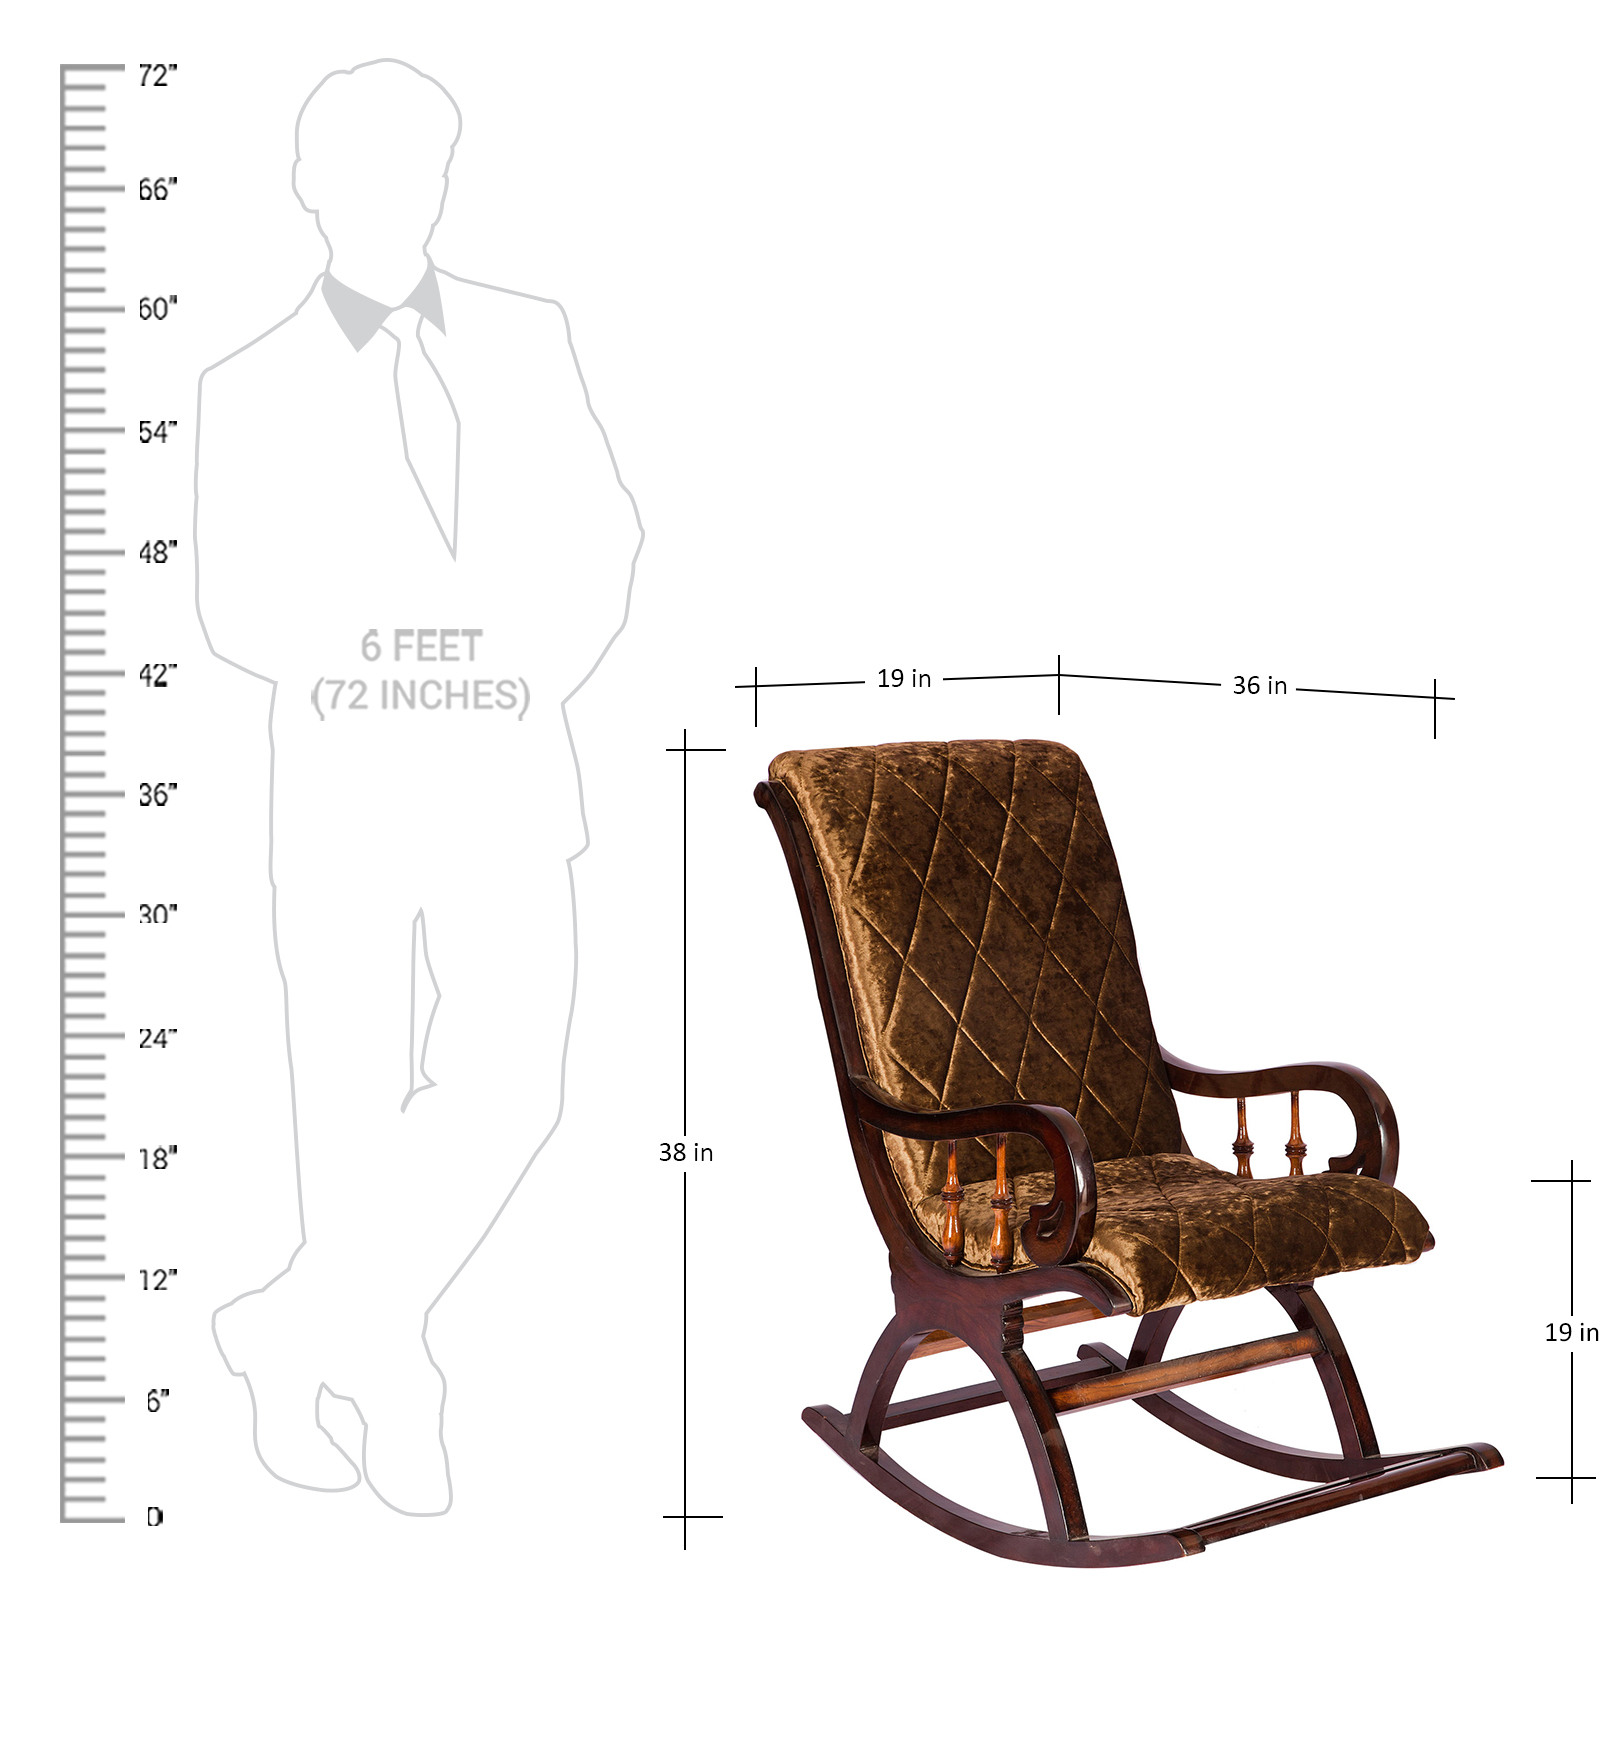Rocking Chair in Dark Brown Colour by Karigar: (723, 727, 1520, 1607)
